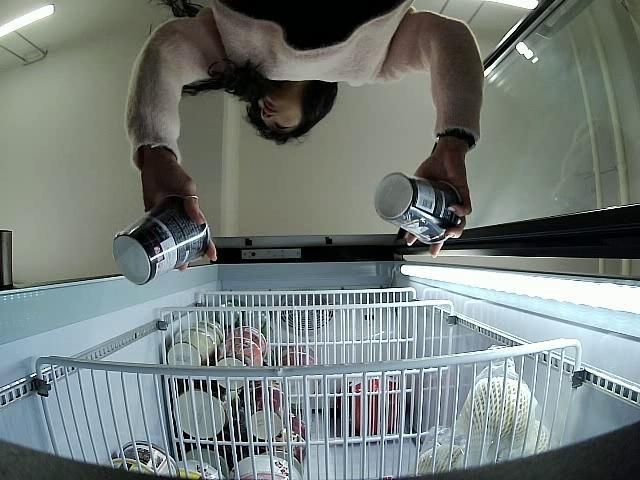08_buldak_S: (113, 196, 210, 287), (376, 170, 460, 246)
